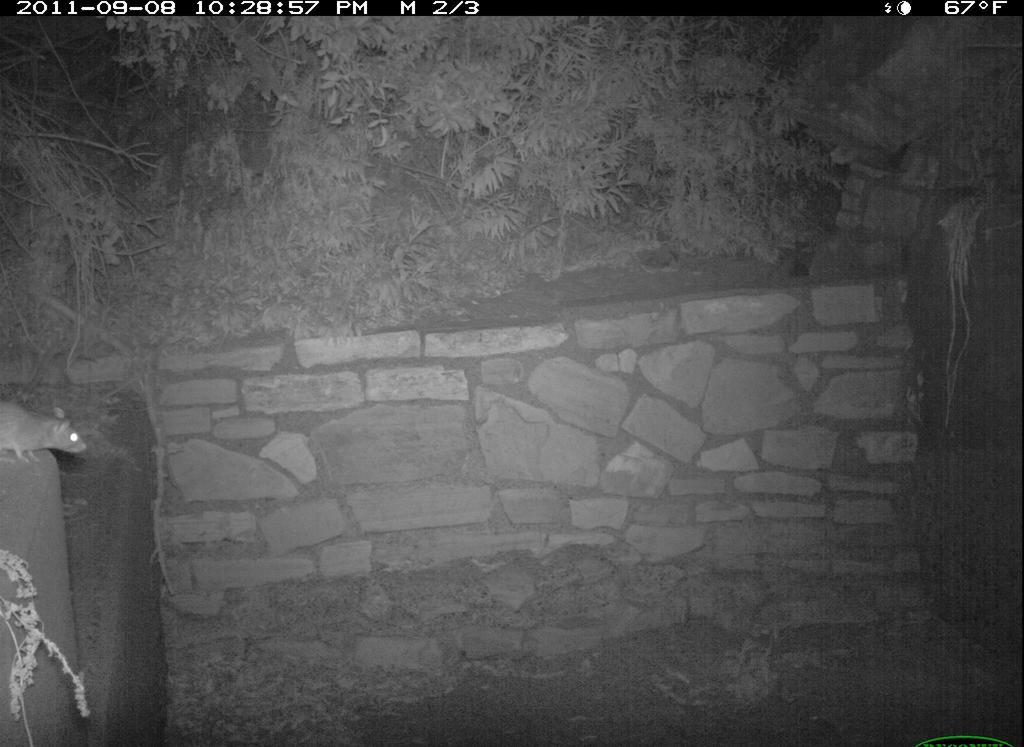rodent: (1, 391, 105, 475)
